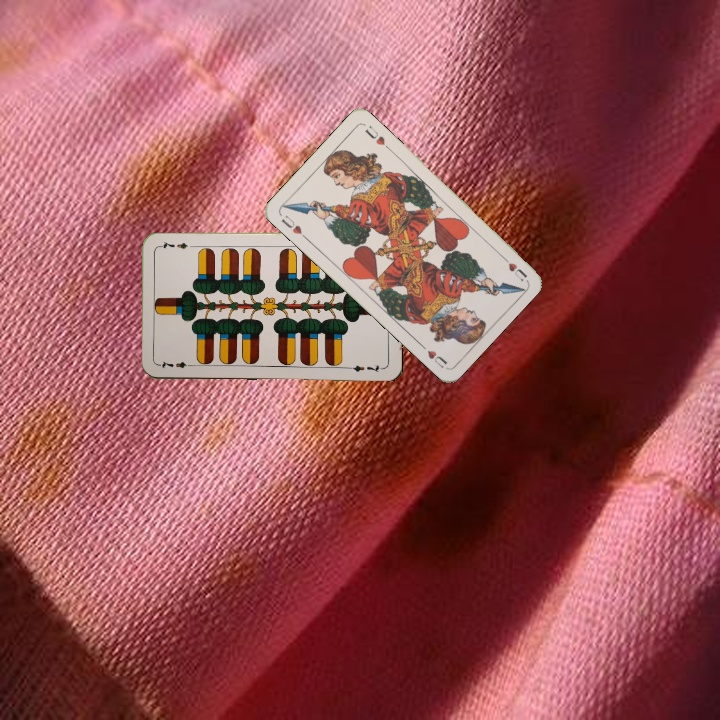E7: (157, 357, 197, 371)
HU: (496, 251, 530, 284), (277, 211, 310, 242)
